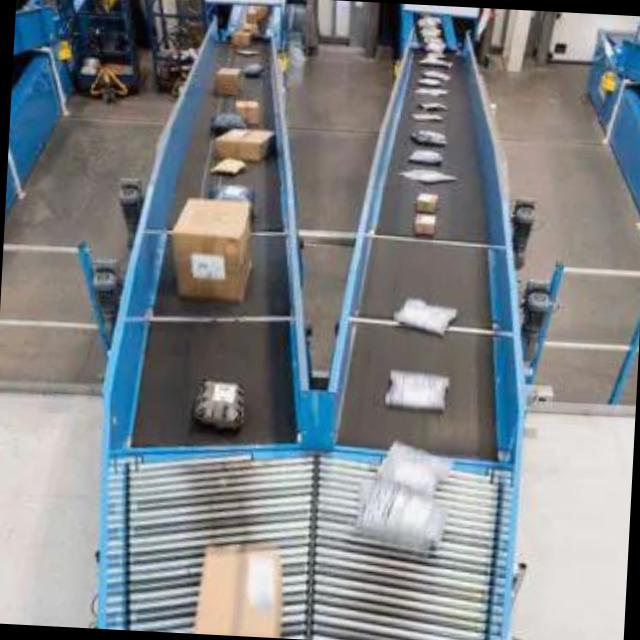box: (194, 549, 283, 638), (173, 201, 252, 298), (216, 130, 274, 160), (236, 99, 262, 126), (218, 69, 240, 94), (417, 192, 438, 213), (416, 214, 435, 234), (233, 29, 250, 46)
mailer: (348, 479, 447, 560), (370, 439, 453, 493), (192, 378, 247, 432), (382, 370, 450, 412), (391, 298, 455, 341), (211, 185, 255, 213), (212, 112, 249, 136), (401, 169, 457, 183), (212, 158, 246, 174), (413, 130, 447, 145), (410, 150, 442, 164), (421, 55, 453, 66), (414, 112, 444, 121), (418, 87, 448, 95), (421, 101, 447, 110), (424, 71, 450, 80), (246, 64, 264, 76), (420, 77, 442, 85), (239, 48, 260, 54)
